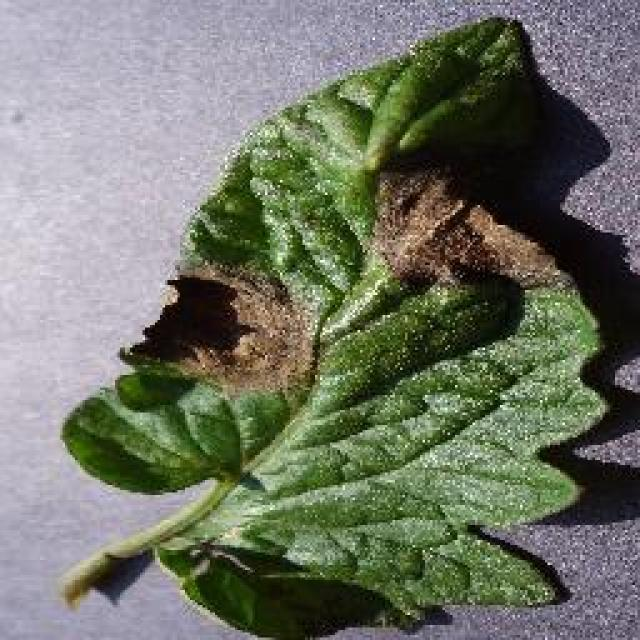Tomato late blight leaf: (60, 12, 608, 640)
